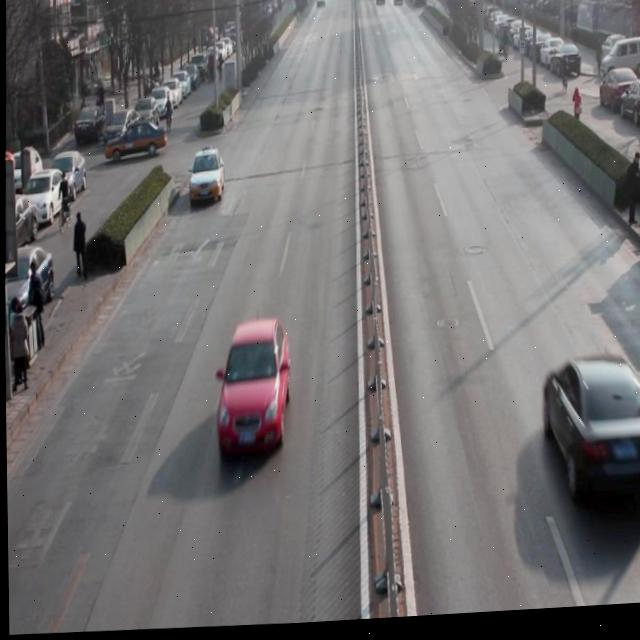car: (537, 362, 640, 514), (214, 323, 291, 465), (187, 144, 227, 212)
